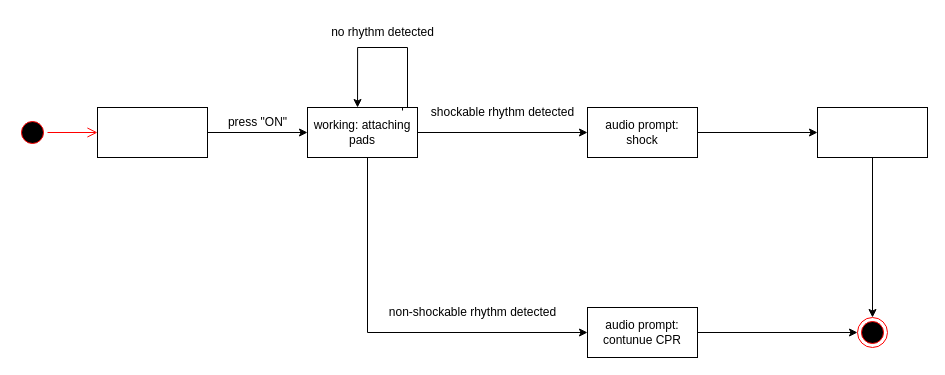
Image size: 945x375. Some labels were removed from this diagram. Each missing label, with the box of its shape:
after shock anaylsis: (816, 106, 928, 158)
shut down: (96, 106, 208, 158)
